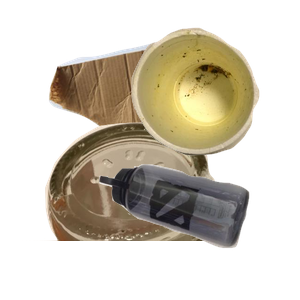cardboard: (46, 40, 226, 179)
glass: (22, 120, 233, 300)
plastic: (97, 162, 300, 300)
trash: (129, 25, 300, 173)
